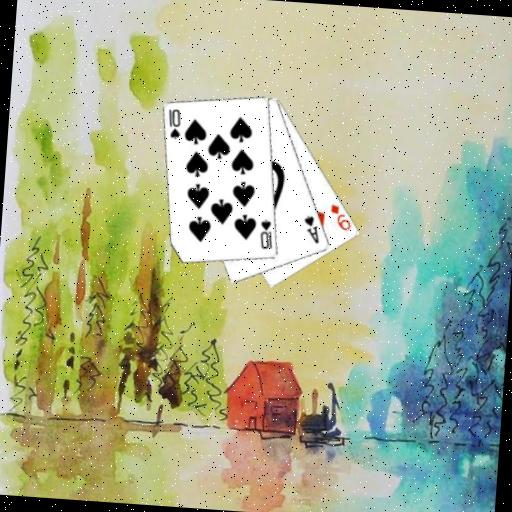10S: (257, 216, 276, 251), (165, 106, 184, 141)
9D: (326, 201, 355, 233)
AS: (300, 213, 323, 246)
